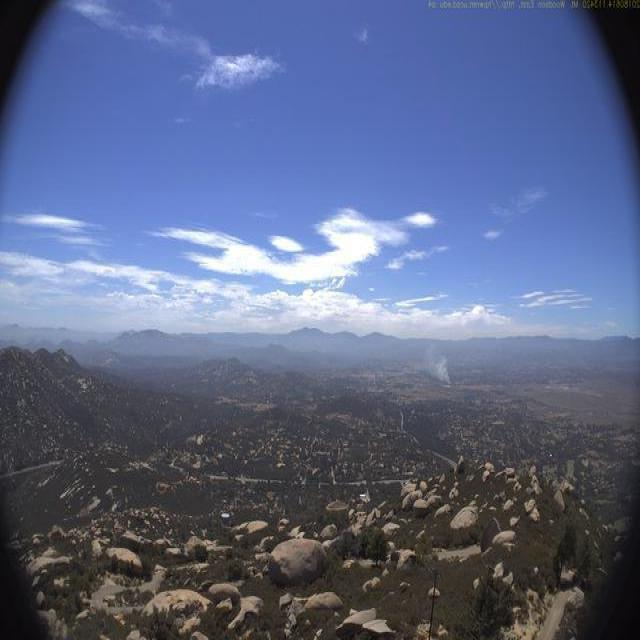Smoke: (416, 340, 451, 387)
